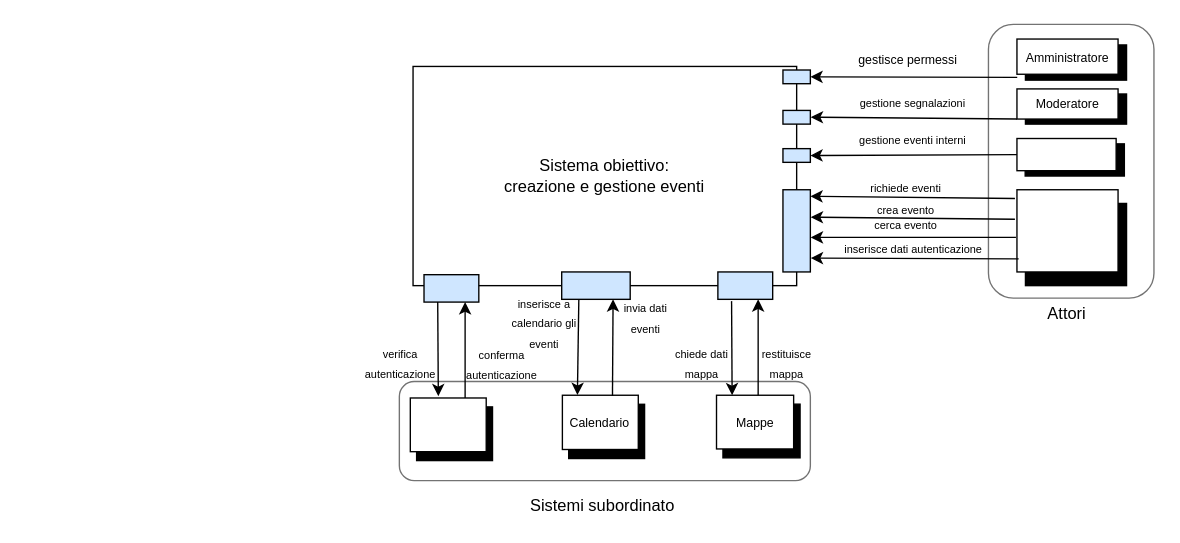
This 1180x543 diagram has some shape labels left out. The shapes that lost their labels are listed below. From the top down, each one's centre as x and y in pixels, then its label:
At point 1066,154: "Event manager".
At point 1067,230: "Studente".
At point 447,424: "Login".
